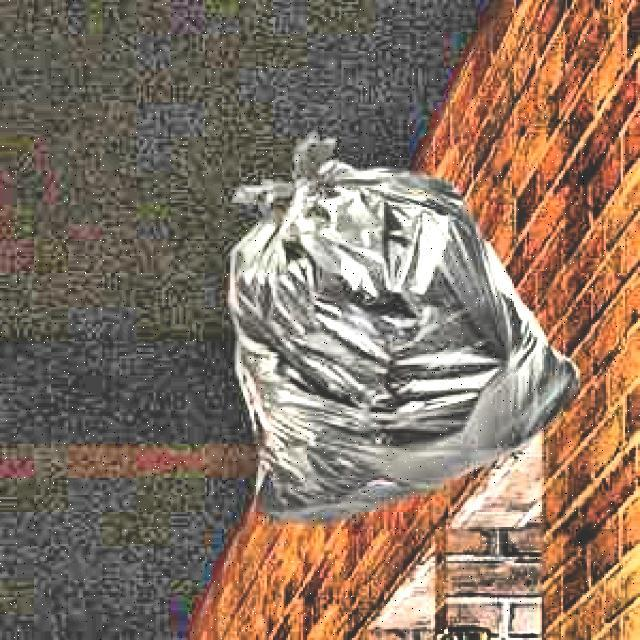Trashbag: (211, 112, 579, 534)
